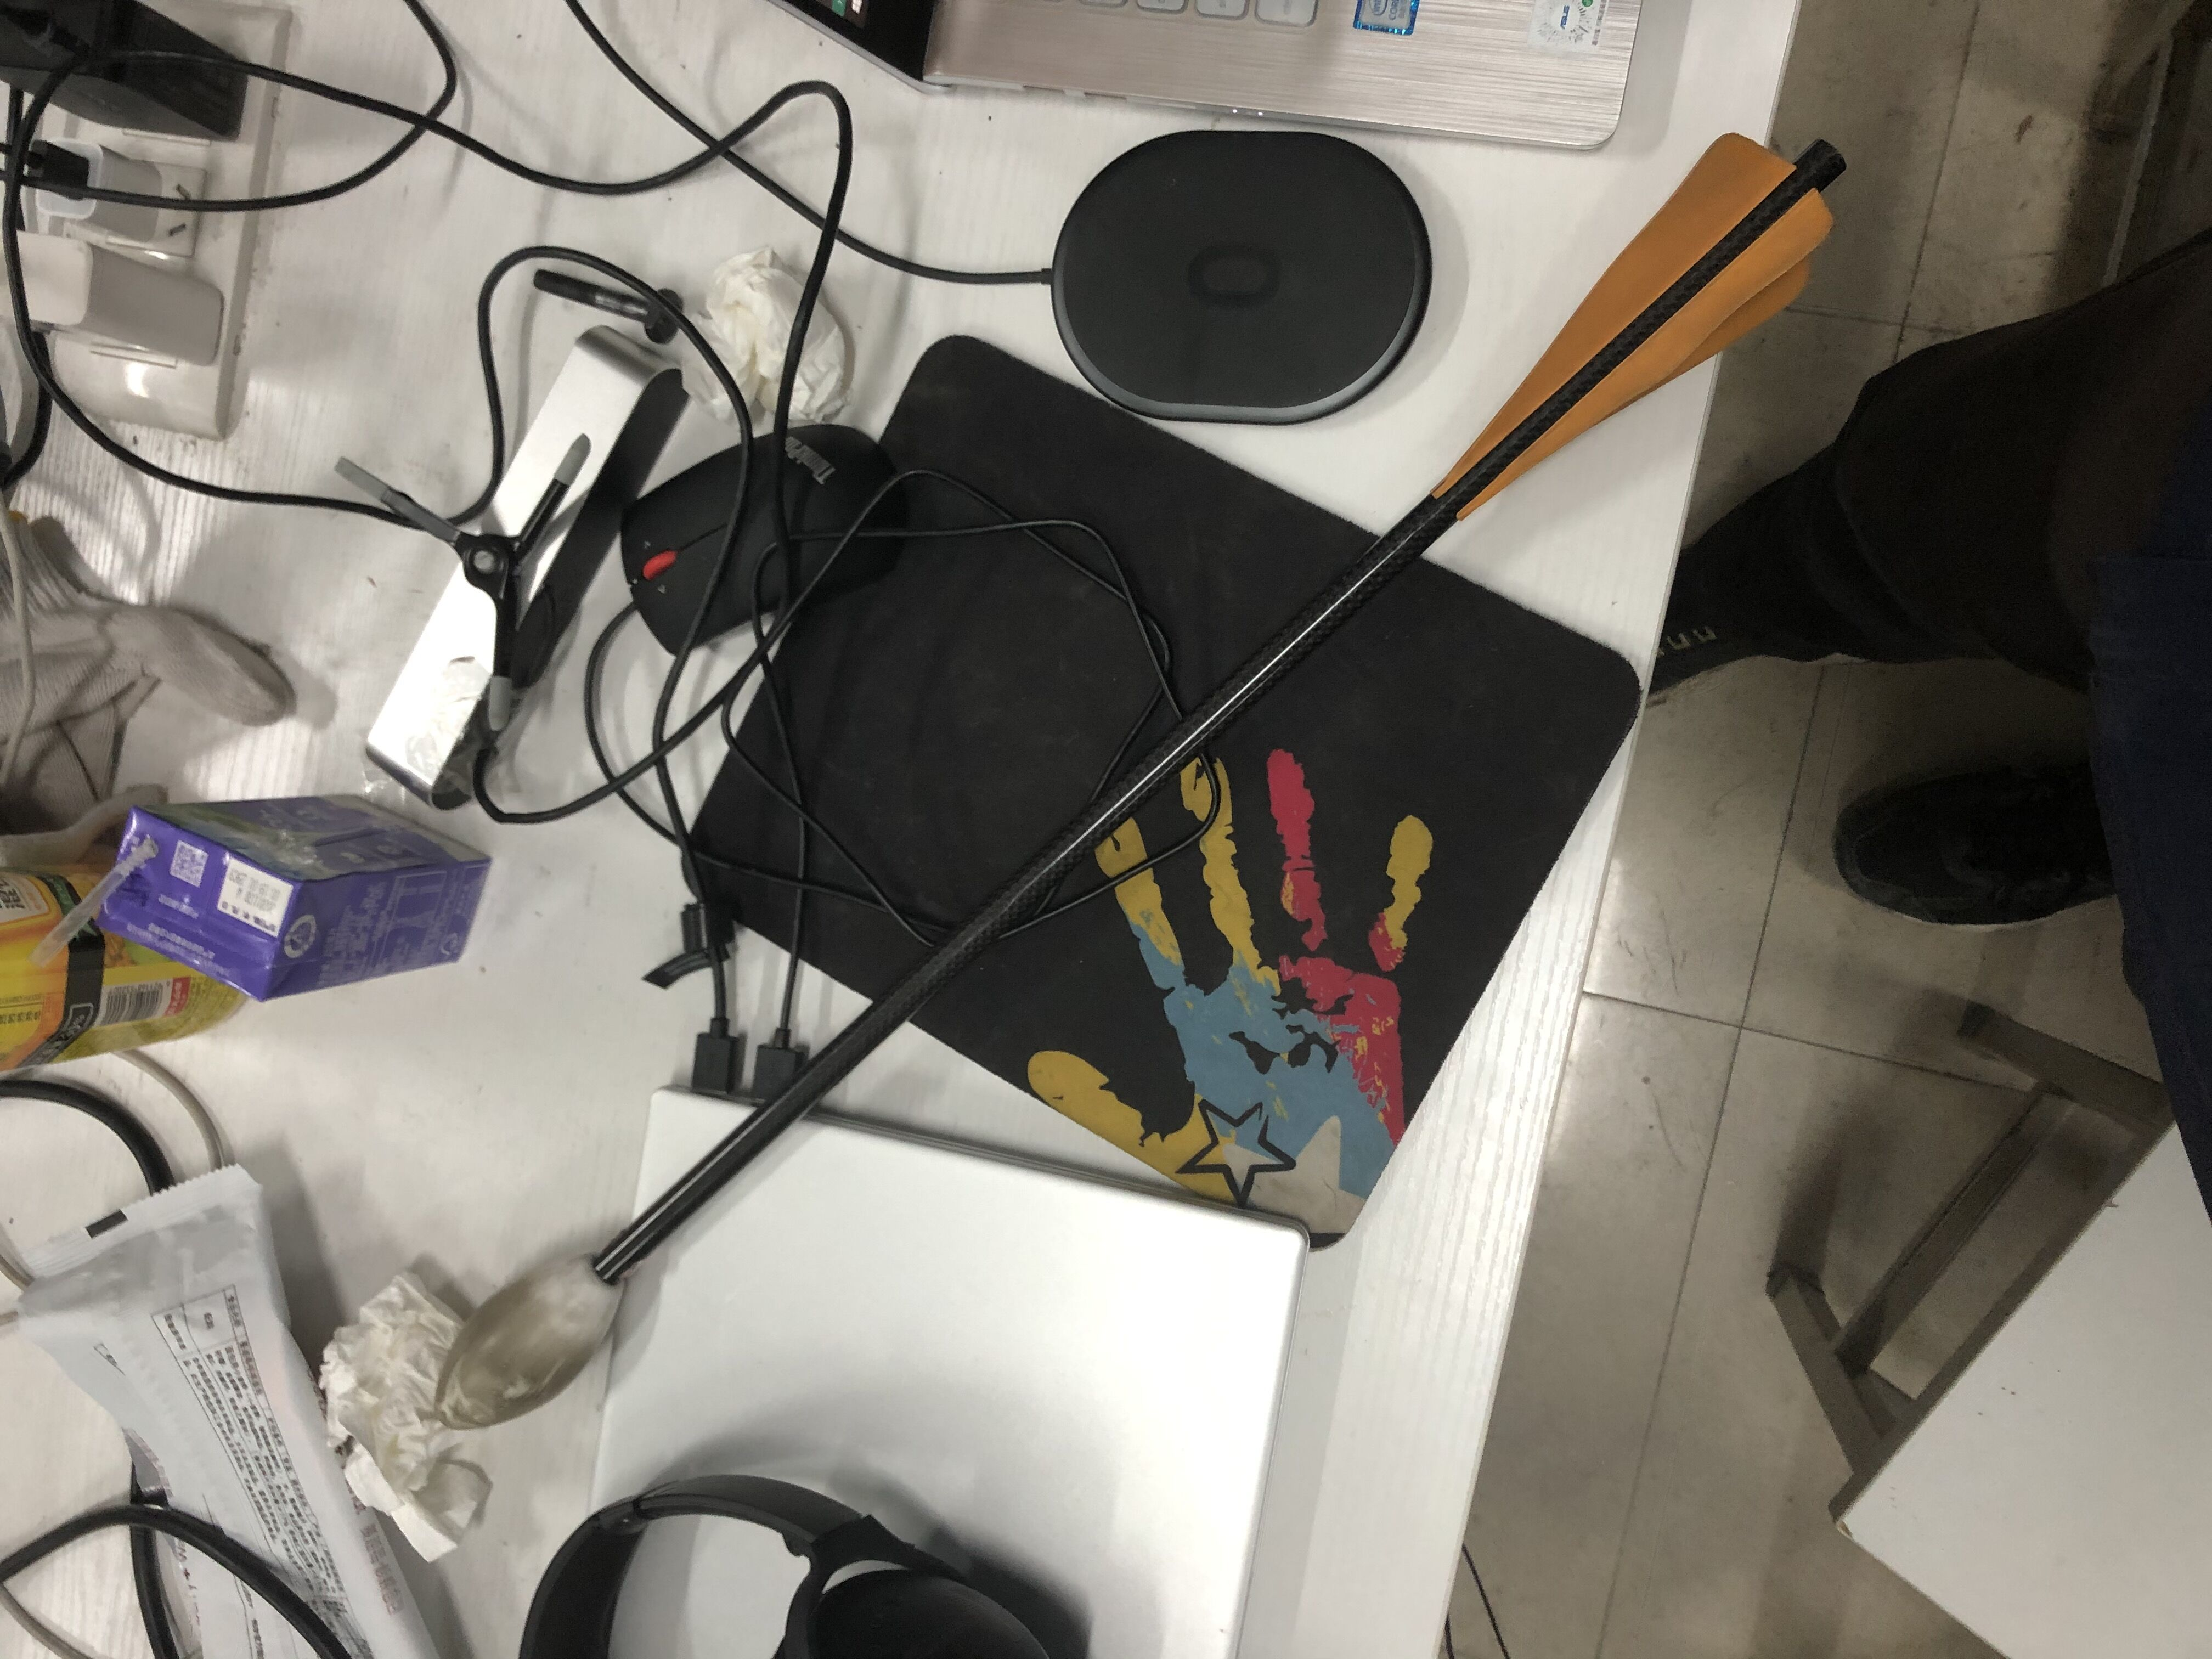arrow: (432, 136, 1838, 1431)
arrowFront: (434, 1249, 625, 1427)
